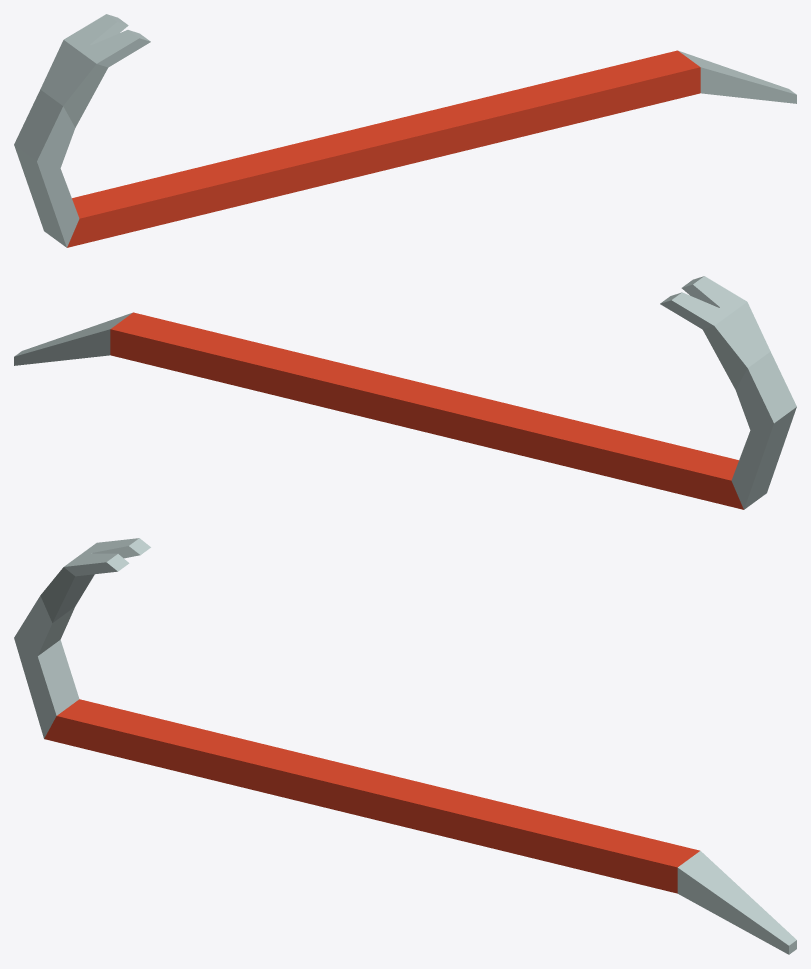
File: crowbar.glb
3 views of the same model, one above another, from view 1: azimuth 30°, elevation 25°; view 2: azimuth 150°, elevation 25°; view 3: azimuth 330°, elevation 25° (orthographic).
Parts seen in each view (by area): view 1: crowbar; view 2: crowbar; view 3: crowbar.
Boxes of the visible parts, x1=… form: crowbar: x1=14, y1=14, x2=796, y2=247; crowbar: x1=14, y1=276, x2=796, y2=509; crowbar: x1=14, y1=538, x2=796, y2=954.
Size of the model in its own units: 1.65 by 0.4891 by 0.1231.
